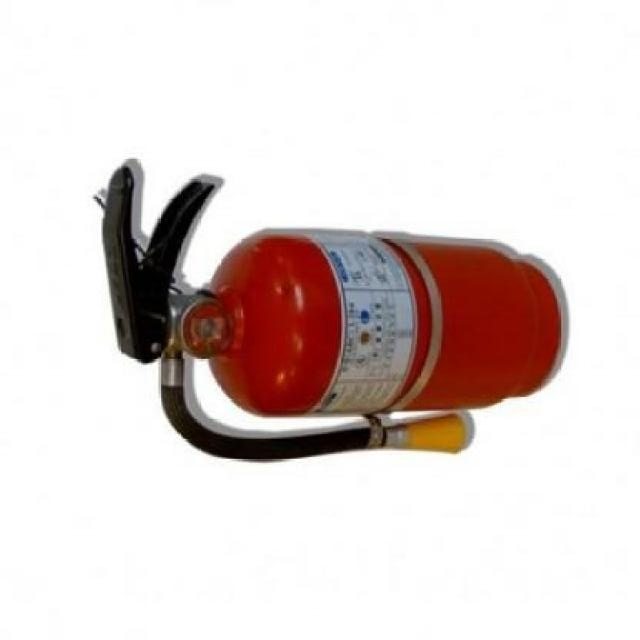fire extinguisher: (90, 164, 562, 461)
